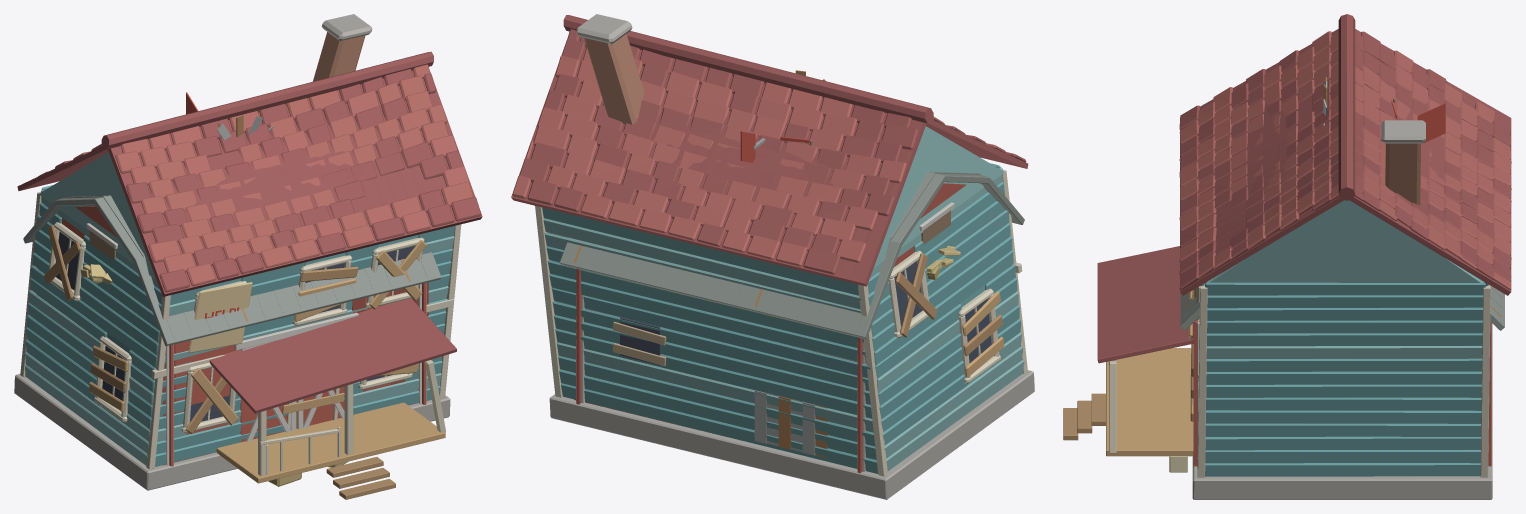
The model's file is camp.glb.
3 renders of one model, left to right at view 1: azimuth 30°, elevation 25°; view 2: azimuth 150°, elevation 25°; view 3: azimuth 270°, elevation 25°, orthographic. The views are drawn at different scales.
Parts seen in each view (by area): view 1: Farmhaus, Scheune, Windrad; view 2: Farmhaus, Scheune, Windrad; view 3: Farmhaus, Scheune, Windrad.
Boxes of the visible parts, x1,y1,x2,y2 form: Farmhaus: (14,14,482,499); Scheune: (23,195,441,486); Windrad: (186,92,273,141); Farmhaus: (511,14,1034,499); Scheune: (559,171,1024,473); Windrad: (740,70,825,162); Farmhaus: (1063,14,1511,499); Scheune: (1169,282,1504,472); Windrad: (1323,77,1445,142).
Size of the model in its own units: 9.78 by 8.81 by 9.56.
